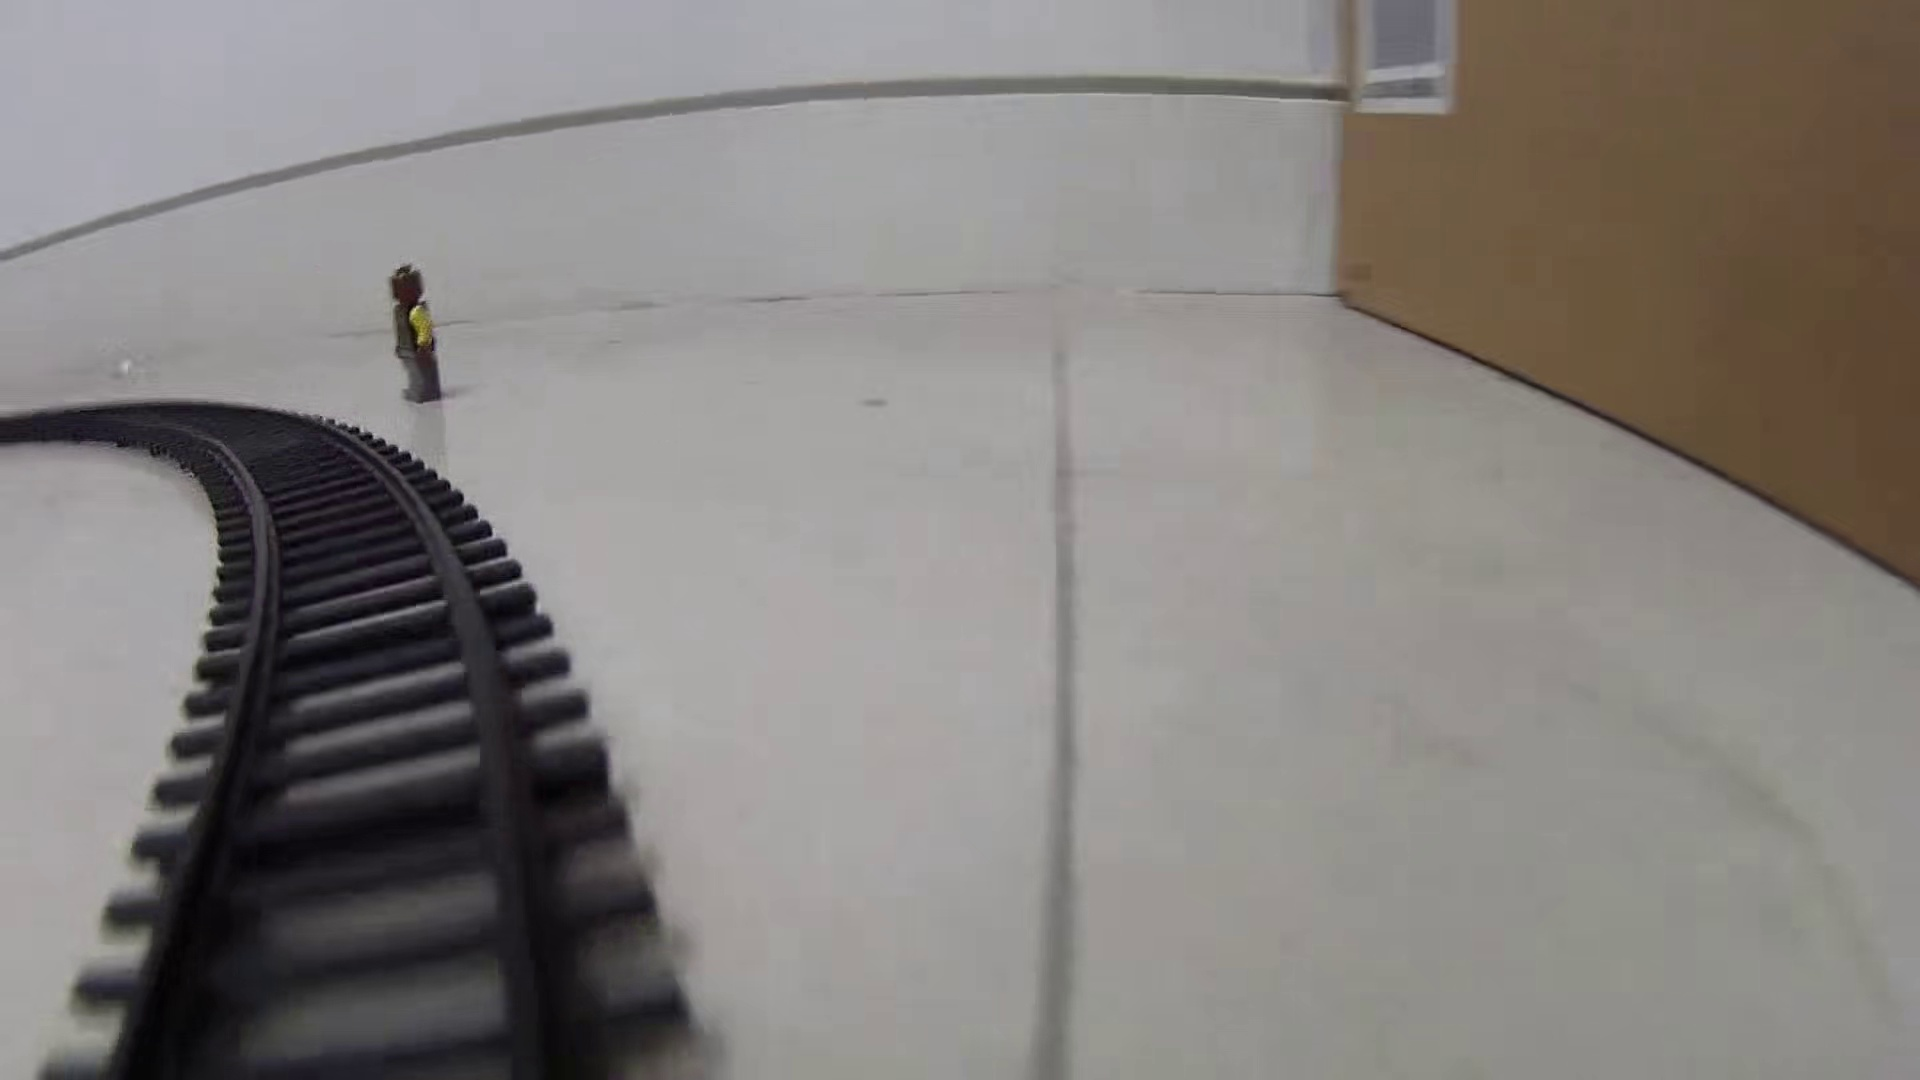people: (387, 261, 446, 406)
